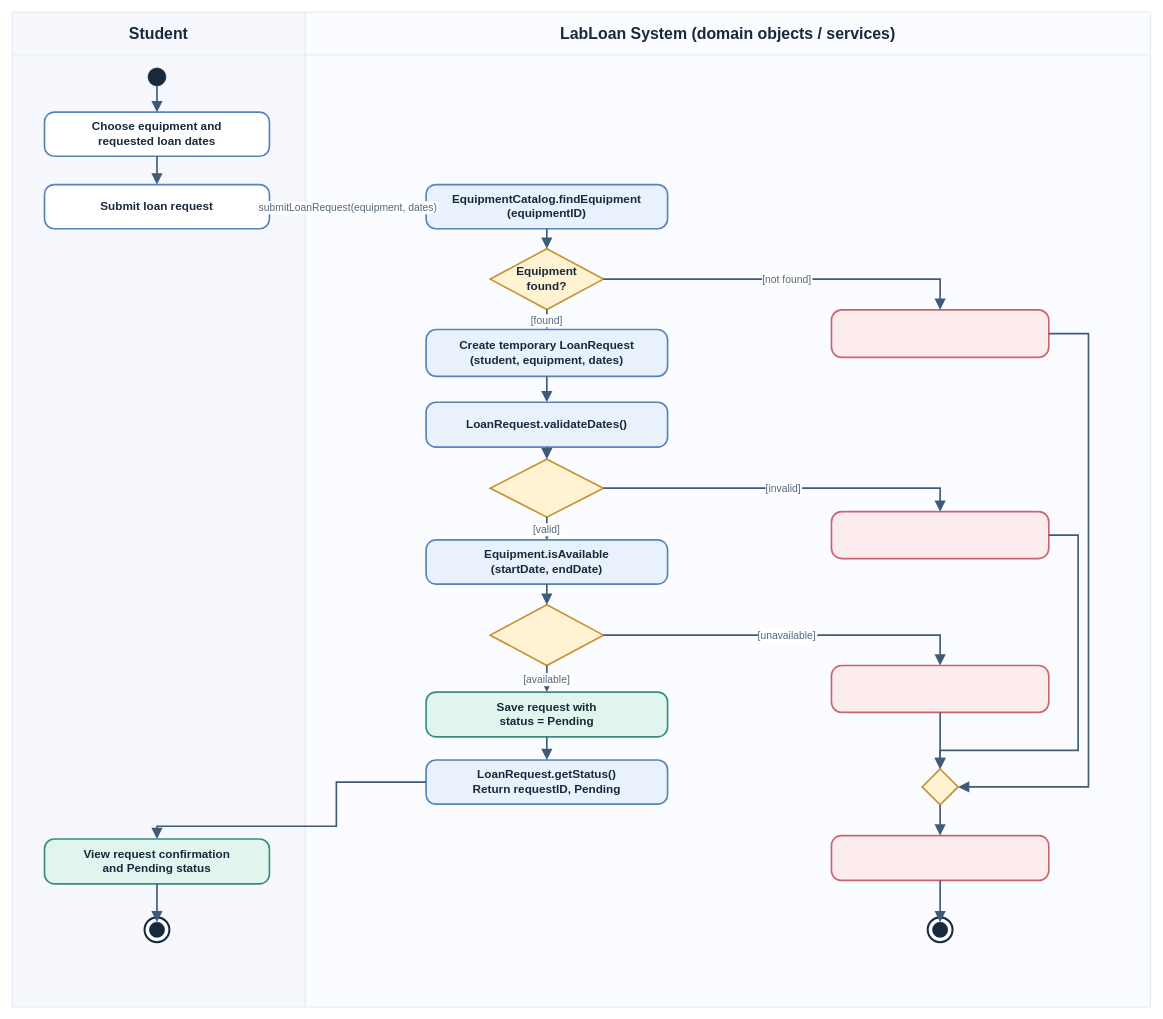
This 1163x1019 diagram has some shape labels left out. Each missing label, with the box of its shape:
Dates valid?: (489, 458, 604, 518)
Equipment available?: (489, 604, 604, 666)
Equipment not found (no LoanRequest created): (830, 309, 1049, 358)
Equipment unavailable (request not stored): (830, 664, 1049, 713)
Invalid date range (request not stored): (830, 510, 1049, 559)
Show failure result to student (no stored request): (830, 834, 1049, 881)
